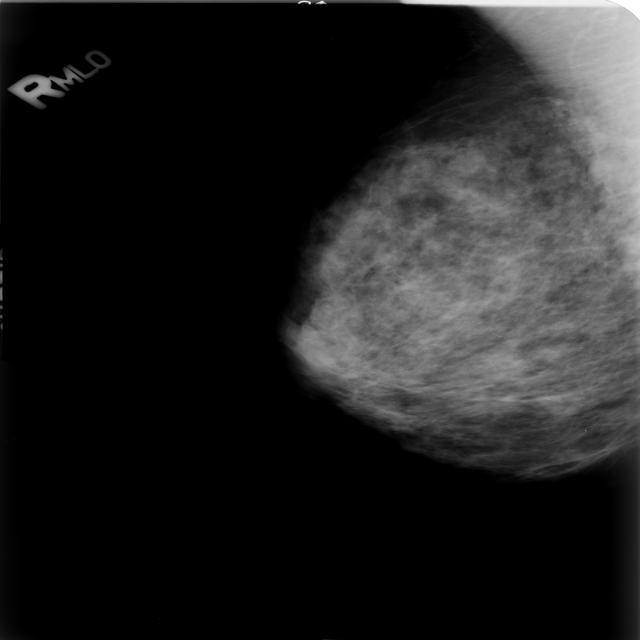cancer: (283, 171, 574, 447)
